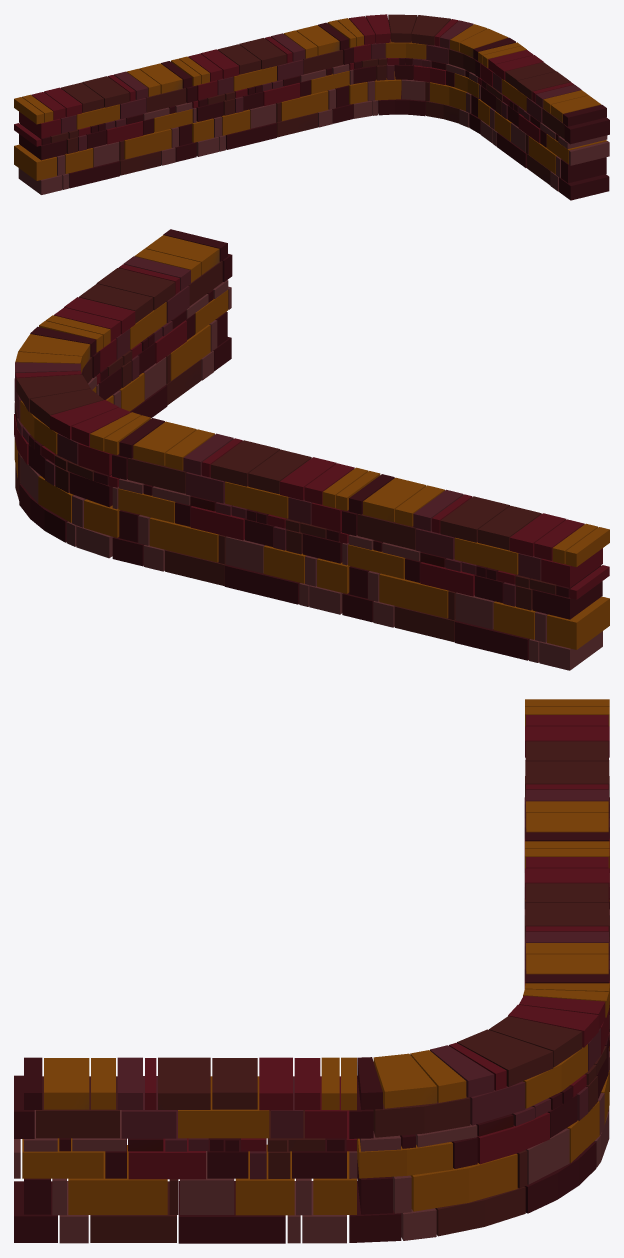
Rendered from WallRed6.fbx.
The picture shows the model from 3 angles, top to bottom: view 1: azimuth 30°, elevation 25°; view 2: azimuth 150°, elevation 25°; view 3: azimuth 270°, elevation 25°; orthographic projection. The views are drawn at different scales.
Visible parts, largest first — view 1: WallRed6; view 2: WallRed6; view 3: WallRed6.
Boxes of the visible parts, <box> form: WallRed6: <box>14,14,609,200</box>; WallRed6: <box>14,229,609,670</box>; WallRed6: <box>14,699,609,1243</box>.
Bounding box in the file's own units: 55.73 × 9.9 × 35.62.
1 material, 1 textured.
